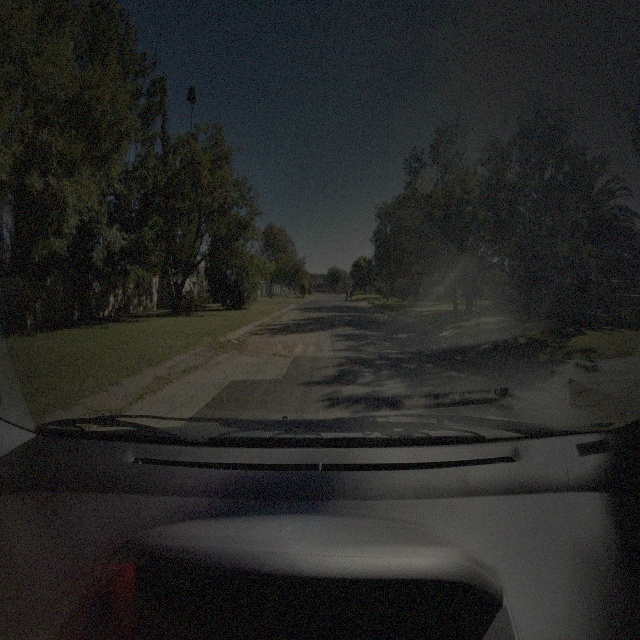pothole: (249, 336, 323, 357)
